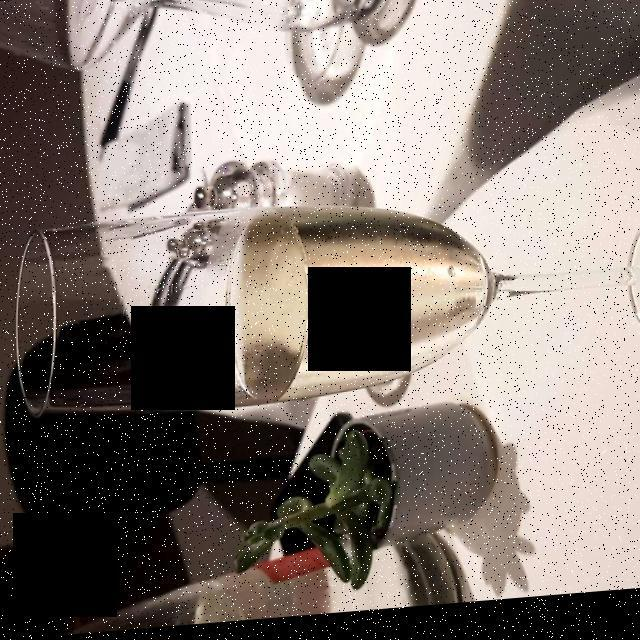wine: (235, 215, 481, 400)
